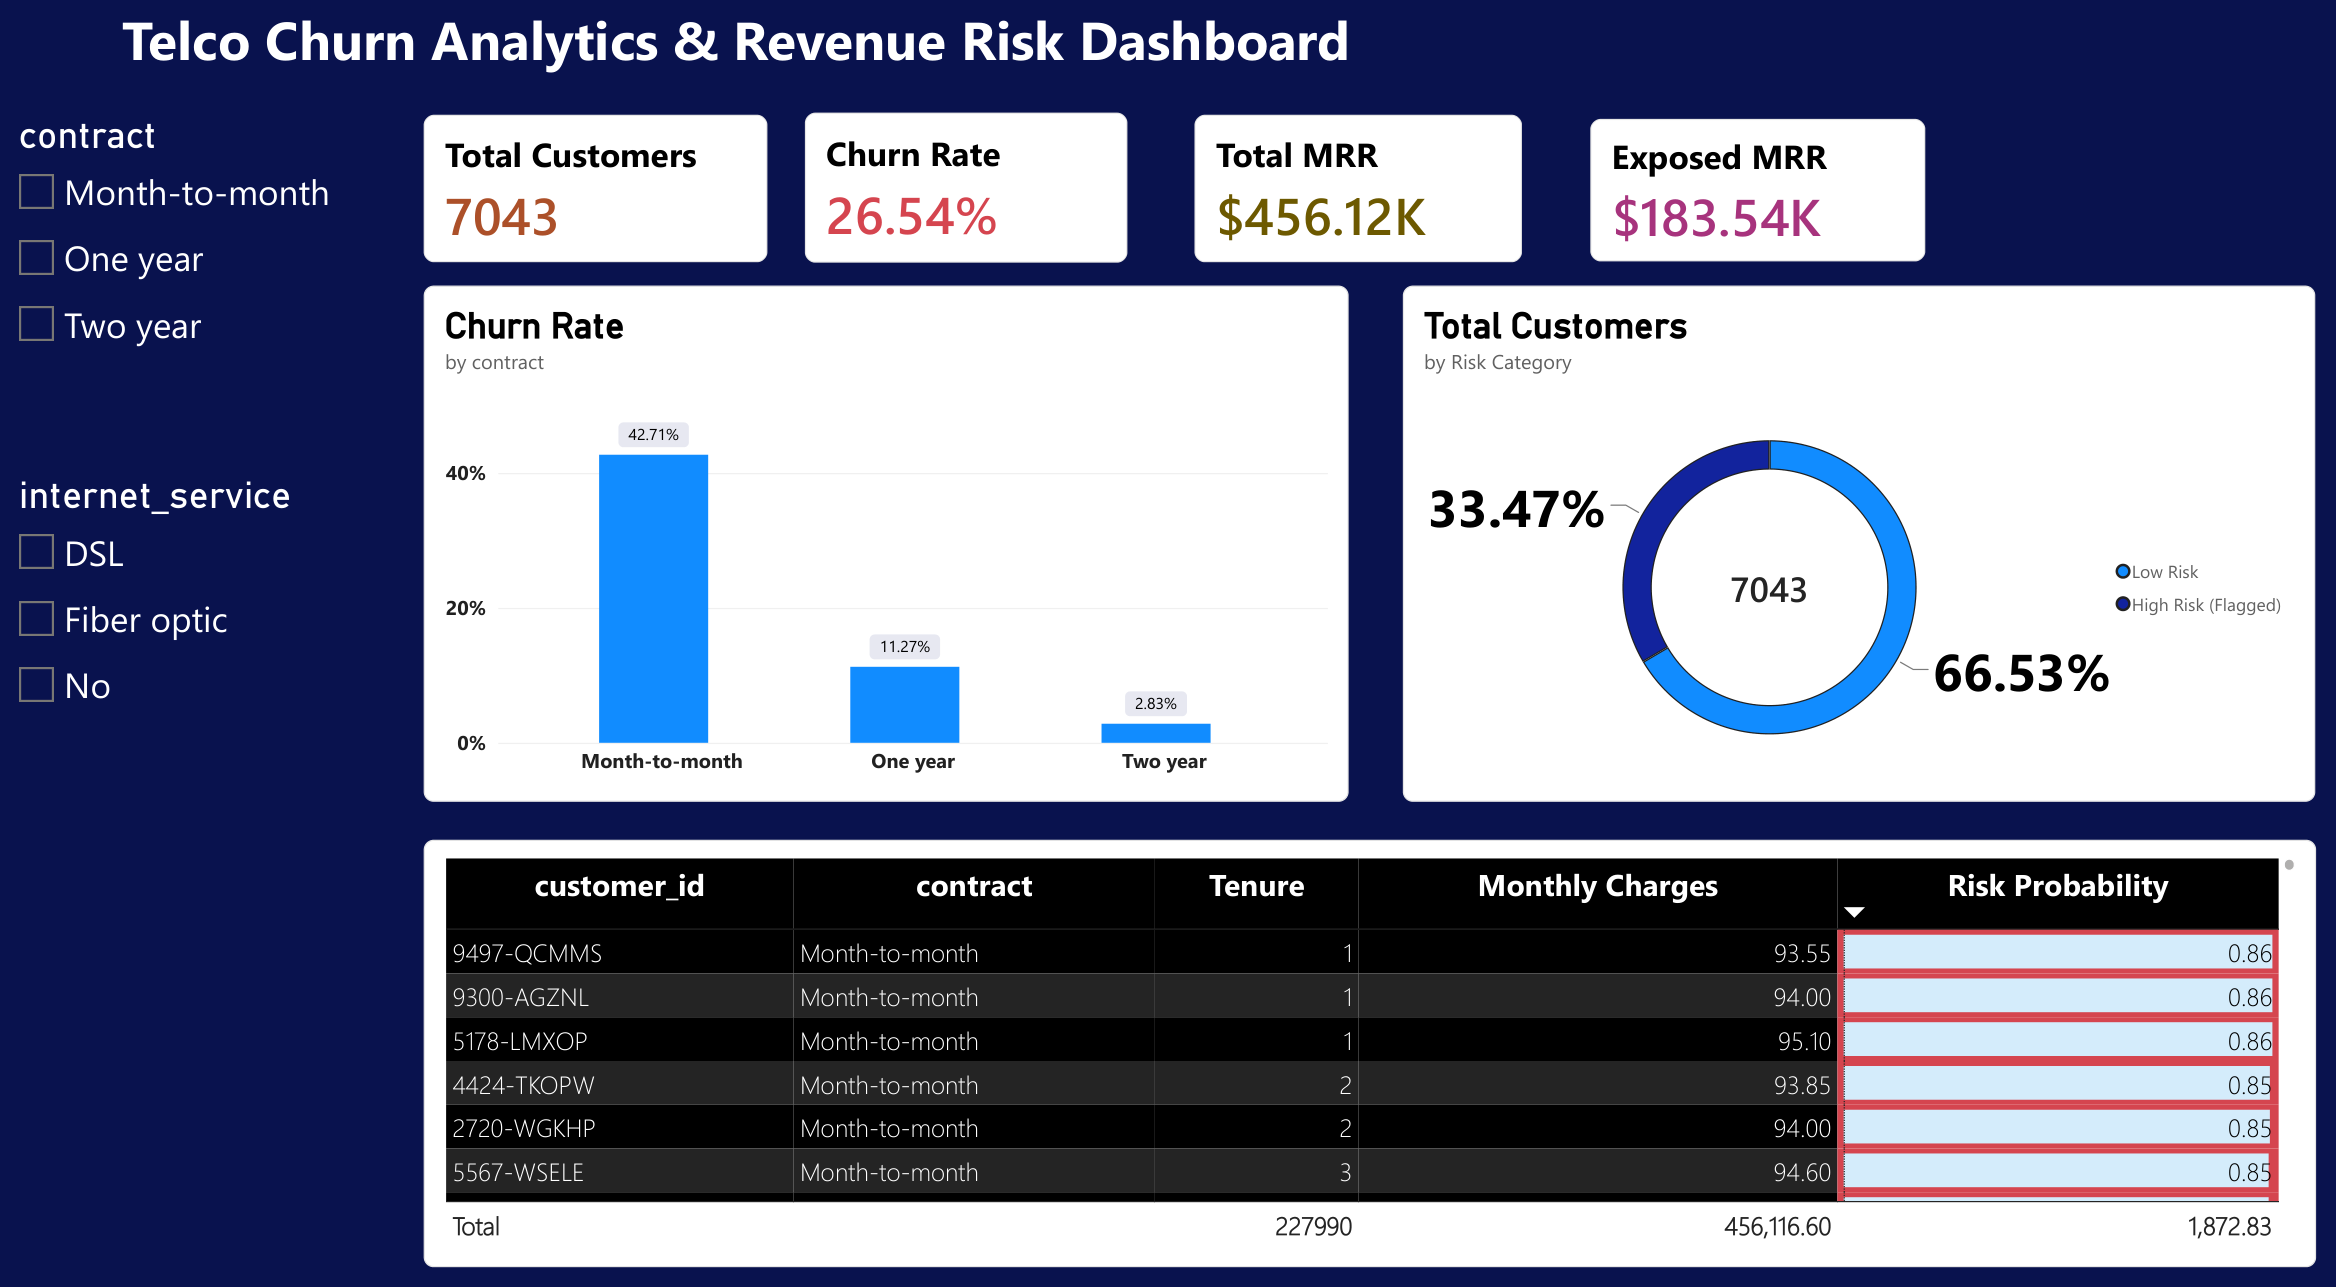

What the dashboard file says about the page in this screenshot:
{"tool":"powerbi","page":{"name":"Page 1","canvas":[1920,1080],"ordinal":0},"visuals":[{"type":"textbox","box":[10,0,280,280],"z":0},{"type":"textbox","box":[10,290,280,280],"z":1000},{"type":"textbox","box":[42,26,1164,48],"z":2000},{"type":"cardVisual","fields":{"Data":["_Key Measures.Total Customers"]},"box":[373.1,114.9,206.7,88],"z":3000},{"type":"cardVisual","fields":{"Data":["_Key Measures.Churn Rate"]},"box":[677.6,113.4,220,88],"z":3001},{"type":"cardVisual","fields":{"Data":["_Key Measures.Exposed MRR"]},"box":[1307.5,117.9,200,88],"z":3002},{"type":"cardVisual","fields":{"Data":["_Key Measures.Total MRR"]},"box":[991,114.9,214.7,88],"z":3003},{"type":"slicer","fields":{"Values":["cleaned_telco_churn.contract"]},"box":[41.8,246.3,292.5,240.3],"z":3004},{"type":"slicer","fields":{"Values":["cleaned_telco_churn.internet_service"]},"box":[46.3,540.3,244.8,331.3],"z":3005},{"type":"clusteredColumnChart","fields":{"Category":["cleaned_telco_churn.contract"],"Y":["_Key Measures.Churn Rate"]},"box":[373.1,252.2,650.7,365.3],"z":3006},{"type":"donutChart","fields":{"Category":["customer_churn_scored.Risk Category"],"Y":["_Key Measures.Total Customers"]},"box":[1076.1,252.2,462,356],"z":3007},{"type":"tableEx","fields":{"Values":["cleaned_telco_churn.customer_id","cleaned_telco_churn.contract","Sum(cleaned_telco_churn.tenure)","Sum(cleaned_telco_churn.monthly_charges)","Sum(customer_churn_scored.churn_probability)"]},"box":[373.1,643.3,1165.7,343.3],"z":3008}]}

Visuals, with their boxes in screenshot pixels (x1, y1, x2, y2), scaled from the page's 1920x1080 canvas onto the 2336x1287 screenshot:
textbox: [x1=12, y1=0, x2=353, y2=334]
textbox: [x1=12, y1=346, x2=353, y2=679]
textbox: [x1=51, y1=31, x2=1467, y2=88]
cardVisual - _Key Measures.Total Customers: [x1=454, y1=137, x2=705, y2=242]
cardVisual - _Key Measures.Churn Rate: [x1=824, y1=135, x2=1092, y2=240]
cardVisual - _Key Measures.Exposed MRR: [x1=1591, y1=140, x2=1834, y2=245]
cardVisual - _Key Measures.Total MRR: [x1=1206, y1=137, x2=1467, y2=242]
slicer - cleaned_telco_churn.contract: [x1=51, y1=294, x2=407, y2=580]
slicer - cleaned_telco_churn.internet_service: [x1=56, y1=644, x2=354, y2=1039]
clusteredColumnChart - cleaned_telco_churn.contract x _Key Measures.Churn Rate: [x1=454, y1=301, x2=1246, y2=736]
donutChart - customer_churn_scored.Risk Category x _Key Measures.Total Customers: [x1=1309, y1=301, x2=1871, y2=725]
tableEx - cleaned_telco_churn.customer_id x cleaned_telco_churn.contract: [x1=454, y1=767, x2=1872, y2=1176]
